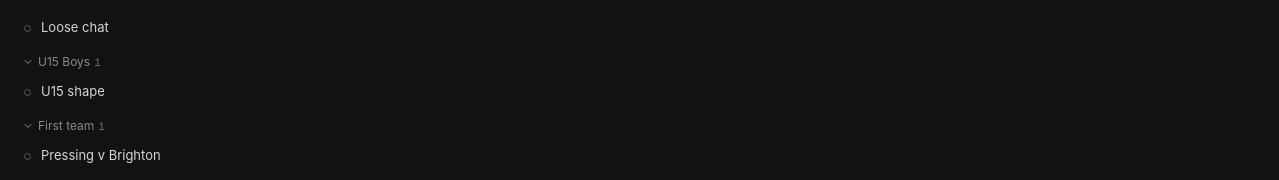
Scenario: ChatList › folding a squad hides its chats and nothing else
Expected: the text "U15 shape" is shown, [41,83,105,99]
Click the button named "U15 Boys1": (64, 62) [18,53,1262,71]
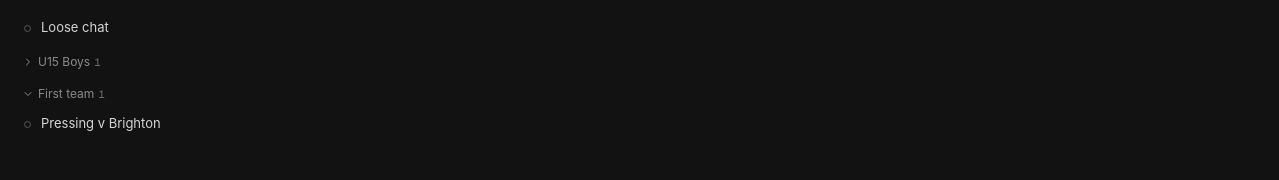
Expected: the text "Loose chat" is shown, [41,19,109,35]
Expected: the button "U15 shape" is gone
